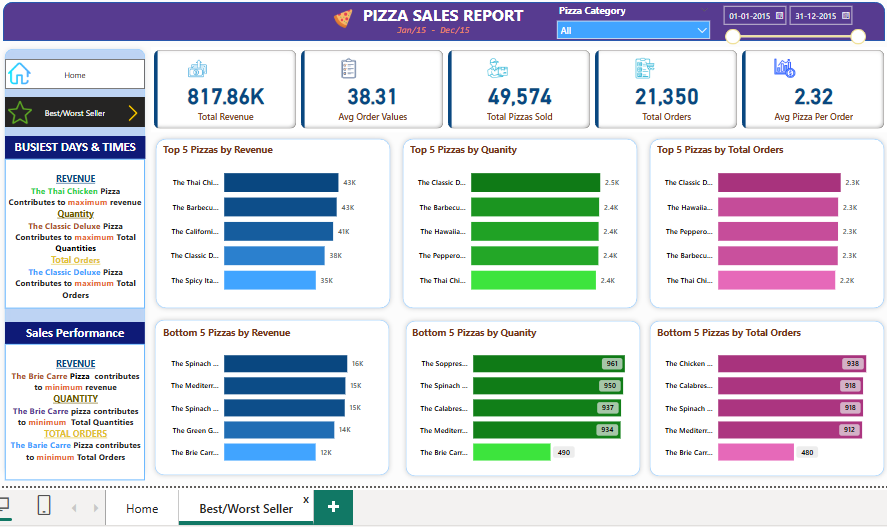

The page's visual inventory and layout, read from the dashboard file:
{"tool":"powerbi","page":{"name":"Best/Worst Seller","canvas":[1500,820],"ordinal":1},"visuals":[{"type":"cardVisual","fields":{"Data":["pizza_sales.Total Revenue","pizza_sales.Avg Order Values","pizza_sales.Total Pizzas Sold","pizza_sales.Total Orders","pizza_sales.Avg Pizza Per Order"]},"box":[263.3,88.3,1230,141.7],"z":0},{"type":"shape","box":[16.7,13.3,1470,65],"z":1000},{"type":"textbox","box":[605,11.7,290,50],"z":2000},{"type":"textbox","box":[653.3,46.7,160,36.7],"z":3000},{"type":"image","box":[561.7,20,43.3,41.7],"z":4000},{"type":"shape","box":[263.3,233.3,406.7,298.3],"z":5000},{"type":"shape","box":[11.7,83.3,250,728.3],"z":6000},{"type":"textbox","box":[19.5,236.8,233.6,38.3],"z":7000},{"type":"textbox","box":[20,275,233.3,249],"z":8000},{"type":"textbox","box":[20,546.7,233.3,38.3],"z":9000},{"type":"textbox","box":[20,583.3,233.3,226.7],"z":10000},{"type":"slicer","title":"Pizza Category","fields":{"Values":["pizza_sales.pizza_category"]},"box":[930,11.7,275,71.7],"z":11000},{"type":"slicer","title":"Pizza Category","fields":{"Values":["pizza_sales.order_date"]},"box":[1205,10,258.3,78.3],"z":12000},{"type":"shape","box":[675,233.3,406.7,298.3],"z":13000},{"type":"shape","box":[1086.7,233.3,406.7,298.3],"z":14000},{"type":"shape","box":[261.7,535,406.7,275],"z":15000},{"type":"shape","box":[680,536.7,406.7,275],"z":16000},{"type":"shape","box":[1086.7,536.7,406.7,275],"z":17000},{"type":"barChart","title":"Top 5 Pizzas by Revenue","fields":{"Category":["pizza_sales.pizza_name"],"Y":["pizza_sales.Total Revenue"]},"box":[278.3,248.3,375,266.7],"z":18000},{"type":"barChart","title":"Bottom 5 Pizzas by Revenue","fields":{"Category":["pizza_sales.pizza_name"],"Y":["pizza_sales.Total Revenue"]},"box":[278.3,553.3,375,245],"z":19000},{"type":"barChart","title":"Top 5 Pizzas by Quanity","fields":{"Category":["pizza_sales.pizza_name"],"Y":["pizza_sales.Total Pizzas Sold"]},"box":[690,248.3,375,266.7],"z":20000},{"type":"barChart","title":"Bottom 5 Pizzas by Quanity","fields":{"Category":["pizza_sales.pizza_name"],"Y":["pizza_sales.Total Pizzas Sold"]},"box":[693.3,553.3,375,245],"z":21000},{"type":"barChart","title":"Top 5 Pizzas by Total Orders","fields":{"Category":["pizza_sales.pizza_name"],"Y":["pizza_sales.Total Orders"]},"box":[1101.7,248.3,375,266.7],"z":22000},{"type":"barChart","title":"Bottom 5 Pizzas by Total Orders","fields":{"Category":["pizza_sales.pizza_name"],"Y":["pizza_sales.Total Orders"]},"box":[1101.7,553.3,375,245],"z":23000},{"type":"pageNavigator","box":[20,171.7,233.3,50],"z":24000},{"type":"pageNavigator","box":[20,108.3,233.3,50],"z":25000},{"type":"image","box":[215,175,36.7,46.7],"z":26000},{"type":"image","box":[20,103.3,48.3,58.3],"z":27000},{"type":"image","box":[20,168.3,50,58.3],"z":28000}]}

Visuals, with their boxes on the page's 1500x820 design canvas (x1, y1, x2, y2). These are canvas units, not pixel positions in the 887x527 screenshot, which may show the page scaled, cropped or inside an application window:
cardVisual - pizza_sales.Total Revenue x pizza_sales.Avg Order Values: bbox=[263, 88, 1493, 230]
shape: bbox=[17, 13, 1487, 78]
textbox: bbox=[605, 12, 895, 62]
textbox: bbox=[653, 47, 813, 83]
image: bbox=[562, 20, 605, 62]
shape: bbox=[263, 233, 670, 532]
shape: bbox=[12, 83, 262, 812]
textbox: bbox=[20, 237, 253, 275]
textbox: bbox=[20, 275, 253, 524]
textbox: bbox=[20, 547, 253, 585]
textbox: bbox=[20, 583, 253, 810]
"Pizza Category" slicer: bbox=[930, 12, 1205, 83]
"Pizza Category" slicer: bbox=[1205, 10, 1463, 88]
shape: bbox=[675, 233, 1082, 532]
shape: bbox=[1087, 233, 1493, 532]
shape: bbox=[262, 535, 668, 810]
shape: bbox=[680, 537, 1087, 812]
shape: bbox=[1087, 537, 1493, 812]
"Top 5 Pizzas by Revenue" barChart: bbox=[278, 248, 653, 515]
"Bottom 5 Pizzas by Revenue" barChart: bbox=[278, 553, 653, 798]
"Top 5 Pizzas by Quanity" barChart: bbox=[690, 248, 1065, 515]
"Bottom 5 Pizzas by Quanity" barChart: bbox=[693, 553, 1068, 798]
"Top 5 Pizzas by Total Orders" barChart: bbox=[1102, 248, 1477, 515]
"Bottom 5 Pizzas by Total Orders" barChart: bbox=[1102, 553, 1477, 798]
pageNavigator: bbox=[20, 172, 253, 222]
pageNavigator: bbox=[20, 108, 253, 158]
image: bbox=[215, 175, 252, 222]
image: bbox=[20, 103, 68, 162]
image: bbox=[20, 168, 70, 227]
